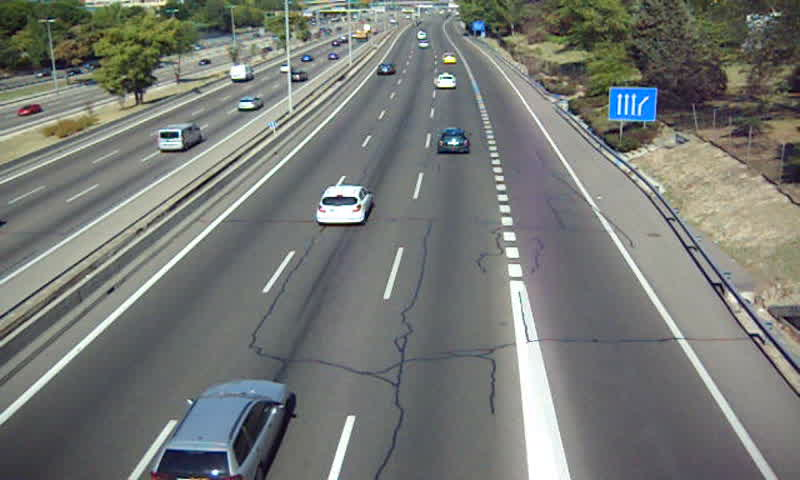car: (153, 378, 290, 480), (316, 184, 375, 224), (439, 125, 471, 152), (434, 73, 458, 91), (373, 64, 394, 78)
